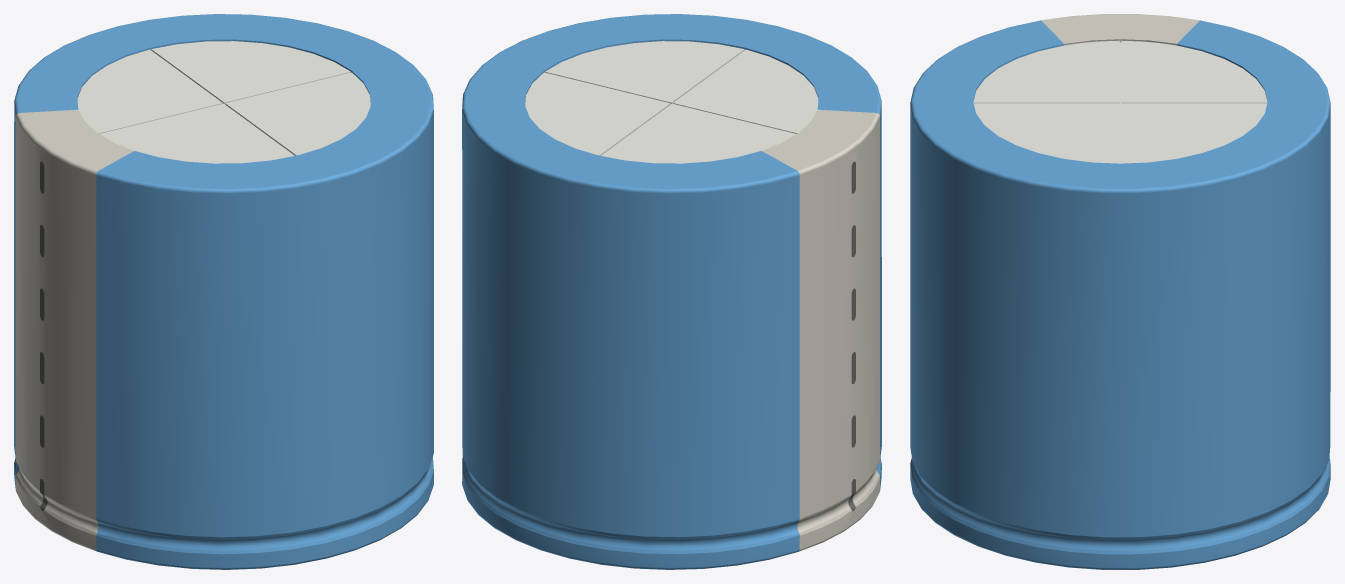
Rendered from kc-cp_radial_d24.0mm_p10.00mm_3pin_snapin.glb.
3 views of the same model, side by side, from view 1: azimuth 30°, elevation 25°; view 2: azimuth 150°, elevation 25°; view 3: azimuth 270°, elevation 25° (orthographic).
Visible parts, largest first — view 1: 0.16666666666666666_0.4166666666666667_0.75_0, 0.6666666666666666_0.6666666666666666_0.5833333333333334_0, 0.8333333333333334_0.8333333333333334_0.75_0.85, 0.16666666666666666_0.16666666666666666_0.16666666666666666_; view 2: 0.16666666666666666_0.4166666666666667_0.75_0, 0.6666666666666666_0.6666666666666666_0.5833333333333334_0, 0.8333333333333334_0.8333333333333334_0.75_0.85, 0.16666666666666666_0.16666666666666666_0.16666666666666666_; view 3: 0.16666666666666666_0.4166666666666667_0.75_0, 0.8333333333333334_0.8333333333333334_0.75_0.85, 0.6666666666666666_0.6666666666666666_0.5833333333333334_0.
Boxes of the visible parts, left/top/right/bottom form: 0.16666666666666666_0.4166666666666667_0.75_0: left=14, top=14, right=433, bottom=569; 0.6666666666666666_0.6666666666666666_0.5833333333333334_0: left=15, top=109, right=133, bottom=551; 0.8333333333333334_0.8333333333333334_0.75_0.85: left=77, top=41, right=370, bottom=163; 0.16666666666666666_0.16666666666666666_0.16666666666666666_: left=40, top=161, right=47, bottom=510; 0.16666666666666666_0.4166666666666667_0.75_0: left=462, top=14, right=881, bottom=569; 0.6666666666666666_0.6666666666666666_0.5833333333333334_0: left=761, top=109, right=879, bottom=551; 0.8333333333333334_0.8333333333333334_0.75_0.85: left=525, top=41, right=818, bottom=163; 0.16666666666666666_0.16666666666666666_0.16666666666666666_: left=848, top=161, right=855, bottom=510; 0.16666666666666666_0.4166666666666667_0.75_0: left=910, top=20, right=1330, bottom=569; 0.8333333333333334_0.8333333333333334_0.75_0.85: left=973, top=40, right=1267, bottom=163; 0.6666666666666666_0.6666666666666666_0.5833333333333334_0: left=1041, top=14, right=1199, bottom=45.
Bounding box in the file's own units: 2.4 × 2.6 × 2.4.
